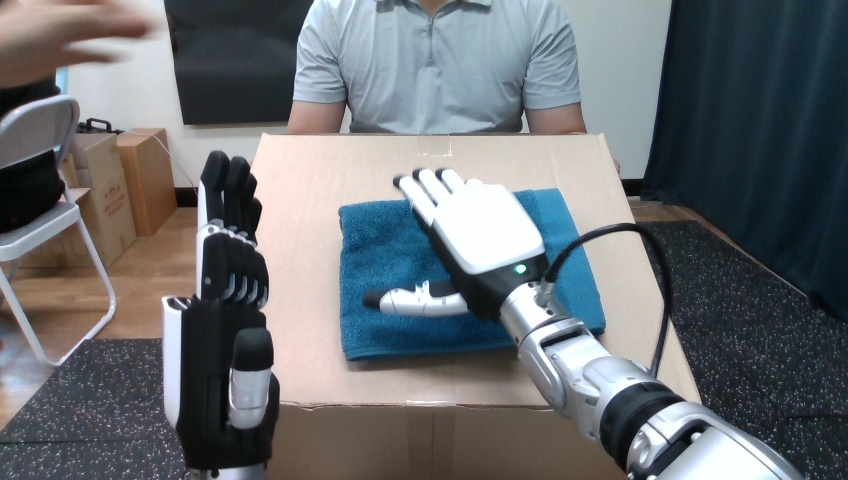left robot hand: (364, 168, 801, 479), (162, 151, 278, 478), (553, 231, 664, 368)
